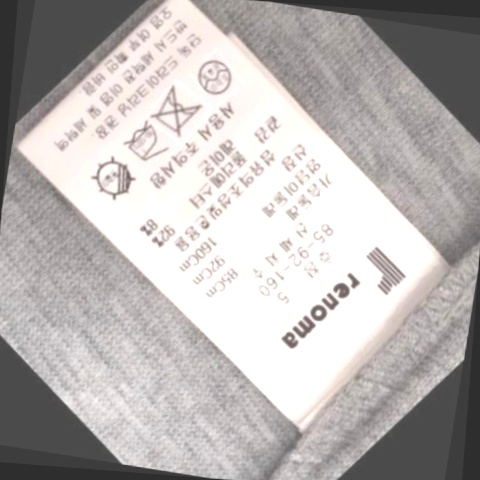DN_wash: (149, 85, 210, 139)
dry_clean_petrol_only: (193, 52, 241, 99)
iron_low: (118, 120, 172, 168)
line_dry_in_shade: (88, 154, 146, 205)
